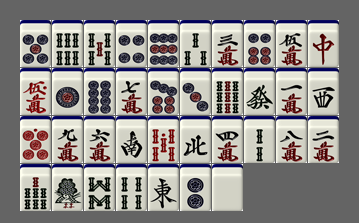0m: (20, 68, 51, 115)
0p: (20, 116, 51, 163)
0s: (148, 116, 179, 163)
1m: (276, 68, 307, 115)
1p: (52, 68, 83, 115)
1s: (52, 164, 83, 211)
1z: (148, 164, 179, 211)
2m: (308, 116, 339, 163)
2p: (180, 164, 211, 211)
2s: (244, 116, 275, 163)
2z: (116, 116, 147, 163)
3m: (212, 20, 243, 67)
3p: (180, 68, 211, 115)
3s: (180, 20, 211, 67)
3z: (308, 68, 339, 115)
4m: (212, 116, 243, 163)
4p: (116, 20, 147, 67)
4s: (116, 164, 147, 211)
4z: (180, 116, 211, 163)
5m: (276, 20, 307, 67)
5p: (20, 20, 51, 67)
5s: (84, 20, 115, 67)
5z: (212, 164, 243, 211)
6m: (84, 116, 115, 163)
6p: (244, 20, 275, 67)
6s: (52, 20, 83, 67)
6z: (244, 68, 275, 115)
7m: (116, 68, 147, 115)
7p: (148, 68, 179, 115)
7s: (20, 164, 51, 211)
7z: (308, 20, 339, 67)
8m: (276, 116, 307, 163)
8p: (84, 68, 115, 115)
8s: (84, 164, 115, 211)
9m: (52, 116, 83, 163)
9p: (148, 20, 179, 67)
9s: (212, 68, 243, 115)
